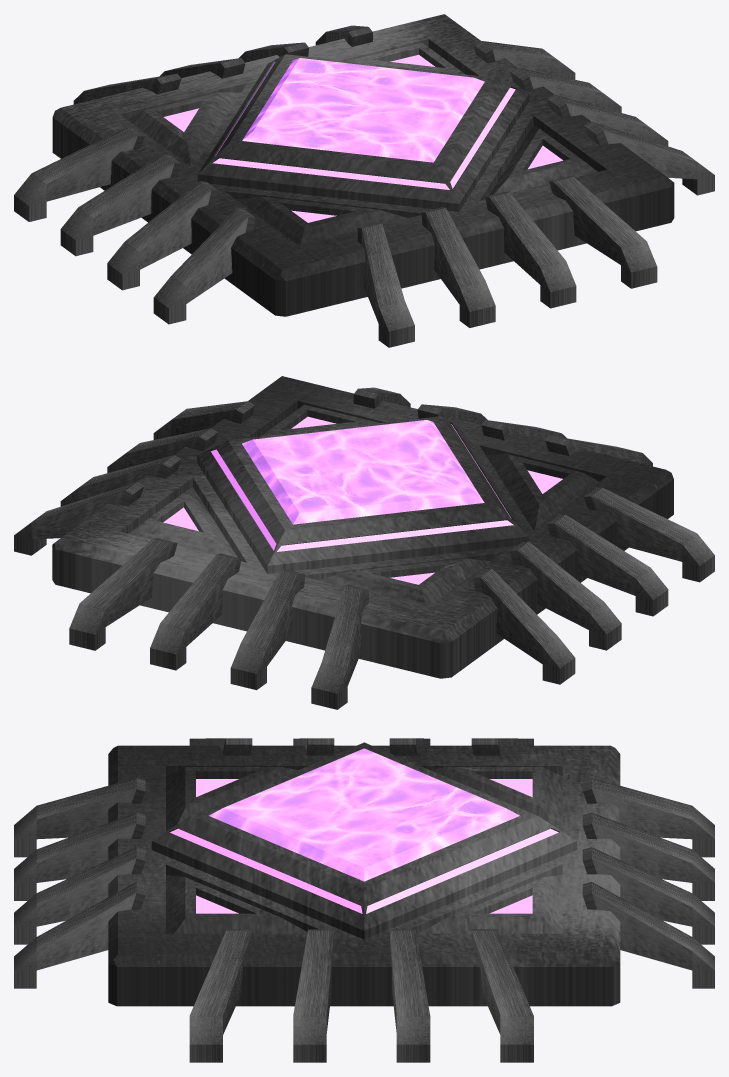
The model's file is voidChip.fbx.
3 views of the same model, one above another, from view 1: azimuth 30°, elevation 25°; view 2: azimuth 150°, elevation 25°; view 3: azimuth 270°, elevation 25° (orthographic). The views are drawn at different scales.
Parts seen in each view (by area): view 1: Plane.void; view 2: Plane.void; view 3: Plane.void.
Part boxes in pixels (bbox=[...]): Plane.void: bbox=[14, 14, 714, 347]; Plane.void: bbox=[14, 376, 714, 709]; Plane.void: bbox=[14, 738, 714, 1062].
Bounding box in the file's own units: 274 × 45.91 × 274.
